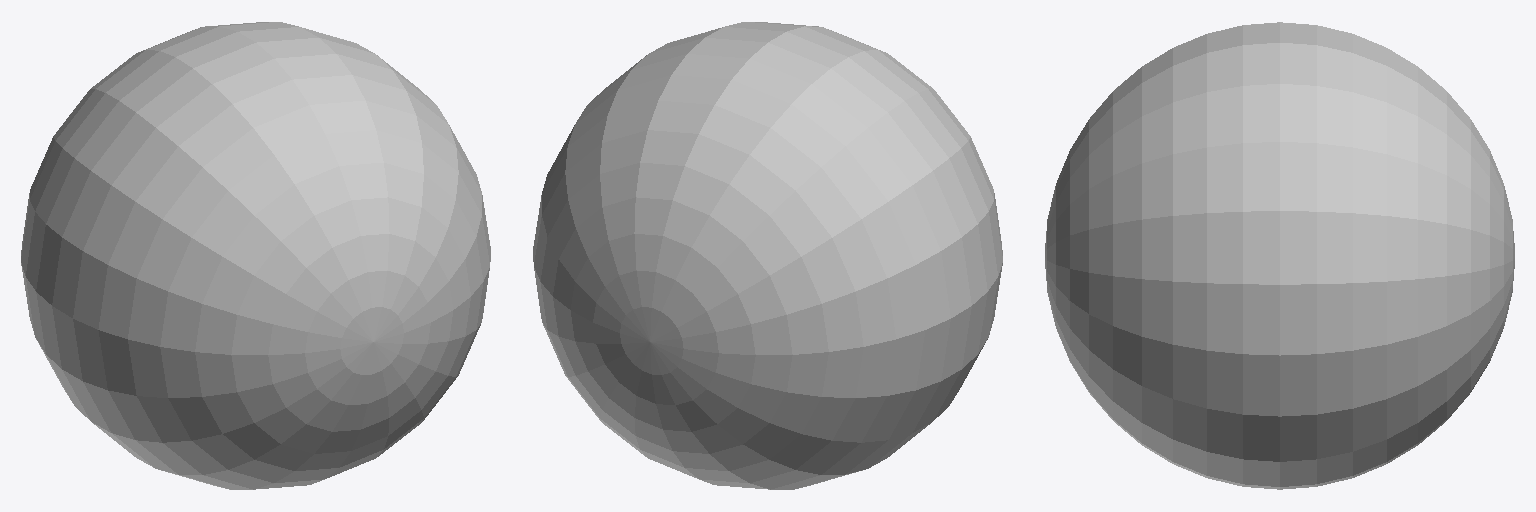
Rendered from Tower-CAPTUREORB.obj.
3 views of the same model, side by side, from view 1: azimuth 30°, elevation 25°; view 2: azimuth 150°, elevation 25°; view 3: azimuth 270°, elevation 25° (orthographic).
Visible parts, largest first — view 1: polySurface14 polySurface6; view 2: polySurface14 polySurface6; view 3: polySurface14 polySurface6.
Part boxes in pixels (left/top/right/bottom): polySurface14 polySurface6: left=21, top=22, right=490, bottom=489; polySurface14 polySurface6: left=533, top=22, right=1002, bottom=489; polySurface14 polySurface6: left=1045, top=22, right=1514, bottom=489.
Size of the model in its own units: 0.6074 by 0.6074 by 0.6074.